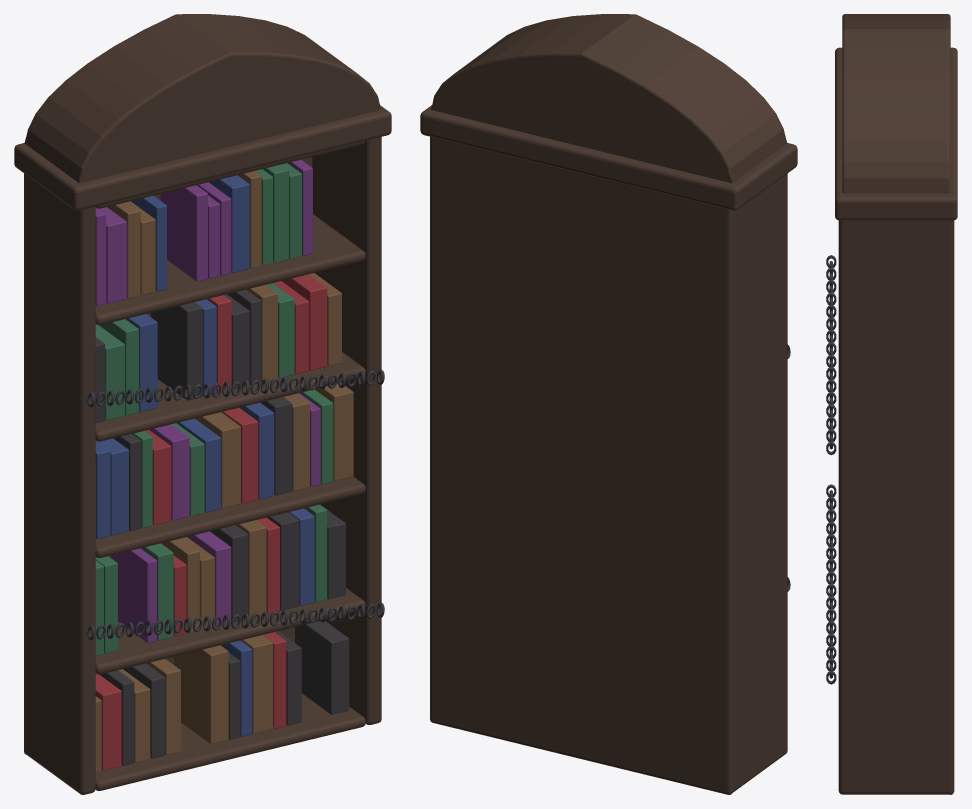
Rendered from bookshelf_chained.glb.
3 renders of one model, left to right at view 1: azimuth 30°, elevation 25°; view 2: azimuth 150°, elevation 25°; view 3: azimuth 270°, elevation 25°, orthographic.
Parts seen in each view (by area): view 1: GD_bookshelf_chained__m0, GD_bookshelf_chained__m4, GD_bookshelf_chained__m3, GD_bookshelf_chained__m7, GD_bookshelf_chained__m6, GD_bookshelf_chained__m5, GD_bookshelf_chained__m1, GD_bookshelf_chained__m2; view 2: GD_bookshelf_chained__m0; view 3: GD_bookshelf_chained__m0, GD_bookshelf_chained__m2.
Boxes of the visible parts, bbox=[...] form: GD_bookshelf_chained__m0: bbox=[14, 14, 391, 794]; GD_bookshelf_chained__m4: bbox=[95, 171, 353, 772]; GD_bookshelf_chained__m3: bbox=[95, 289, 349, 765]; GD_bookshelf_chained__m7: bbox=[95, 159, 320, 643]; GD_bookshelf_chained__m6: bbox=[95, 163, 333, 655]; GD_bookshelf_chained__m5: bbox=[95, 175, 314, 736]; GD_bookshelf_chained__m1: bbox=[95, 274, 327, 770]; GD_bookshelf_chained__m2: bbox=[87, 369, 384, 640]; GD_bookshelf_chained__m0: bbox=[420, 14, 797, 794]; GD_bookshelf_chained__m0: bbox=[835, 14, 957, 794]; GD_bookshelf_chained__m2: bbox=[826, 255, 836, 684].
Bounding box in the file's own units: 1 × 2.12 × 0.3642.
